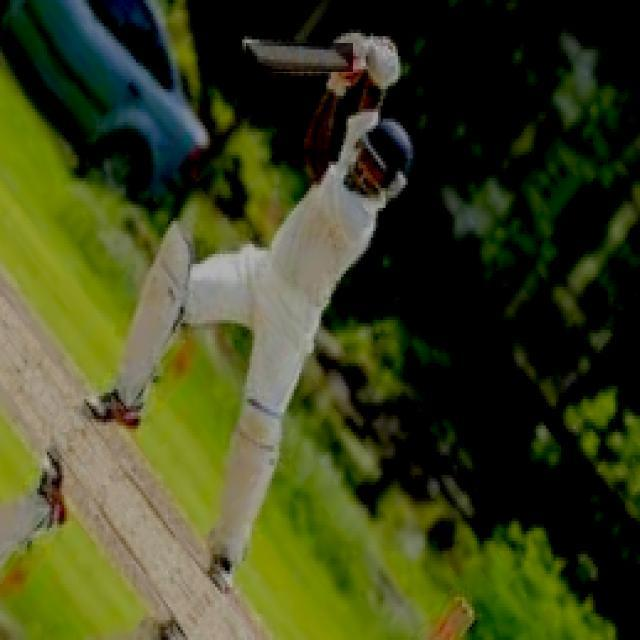bat: (240, 40, 355, 71)
toe: (240, 40, 264, 68)
